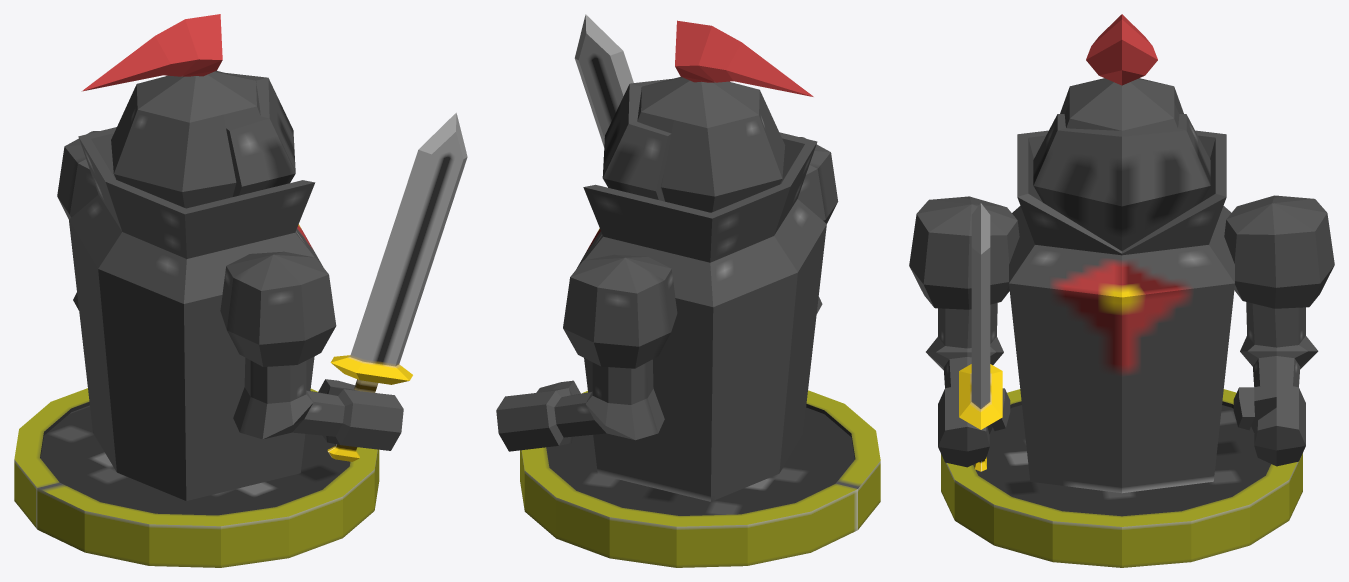
Rendered from player_knight.fbx.
The picture shows the model from 3 angles, left to right: view 1: azimuth 30°, elevation 25°; view 2: azimuth 150°, elevation 25°; view 3: azimuth 270°, elevation 25°; orthographic projection.
Visible parts, largest first — view 1: body, base, arm_right, head, sword, visor, feather, arm_left; view 2: body, base, arm_left, head, visor, feather, sword, arm_right; view 3: body, base, arm_left, visor, arm_right, sword, head, feather.
Boxes of the visible parts, <box> form: body: <box>69,127,322,500</box>; base: <box>14,388,379,567</box>; arm_right: <box>220,251,403,450</box>; head: <box>111,70,260,208</box>; sword: <box>327,112,467,461</box>; visor: <box>226,73,295,196</box>; feather: <box>81,14,222,91</box>; arm_left: <box>57,131,99,310</box>; body: <box>576,132,826,501</box>; base: <box>520,390,880,567</box>; arm_left: <box>496,254,677,451</box>; head: <box>637,77,785,212</box>; visor: <box>602,78,672,201</box>; feather: <box>675,20,813,96</box>; sword: <box>574,14,633,147</box>; arm_right: <box>797,137,838,313</box>; body: <box>1009,130,1234,493</box>; base: <box>941,389,1302,567</box>; arm_left: <box>1224,195,1334,466</box>; visor: <box>1033,114,1210,250</box>; arm_right: <box>909,196,1019,467</box>; sword: <box>959,203,1002,471</box>; head: <box>1060,78,1183,130</box>; feather: <box>1086,14,1157,85</box>.
Size of the model in its own units: 0.8994 by 1.14 by 0.9409.
